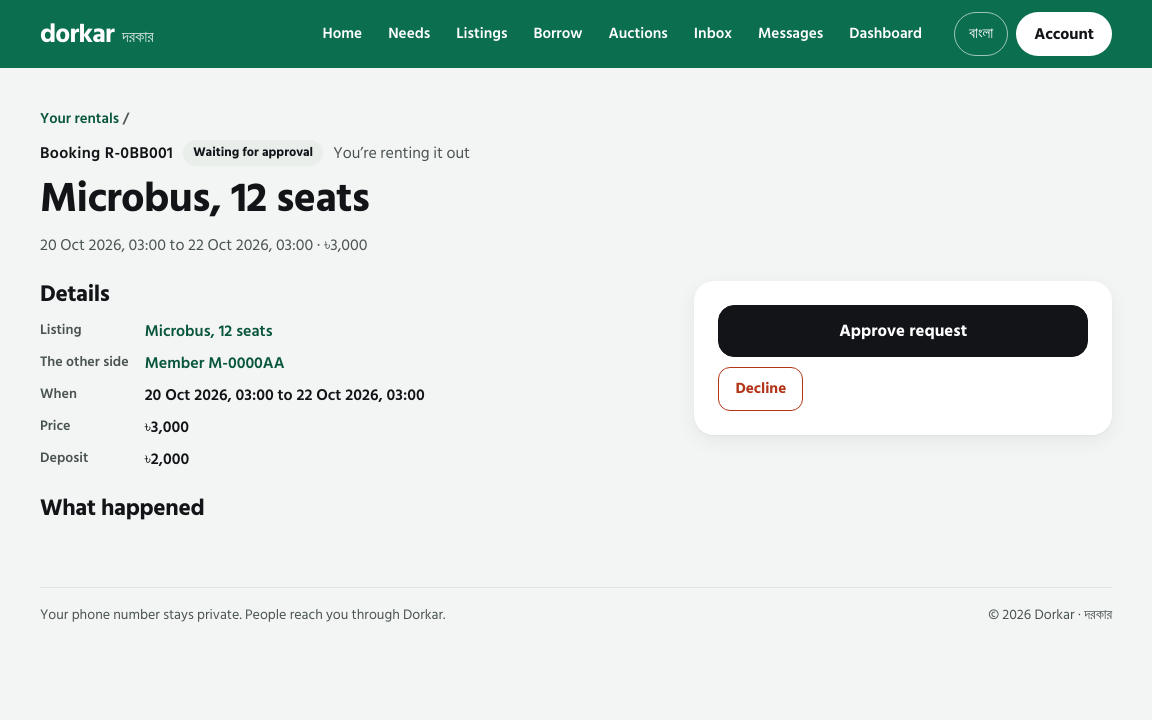
Test: renting › lets the owner approve a request
What coordinates should you click on to do the following:
click the button "Approve request"
I would click on:
 (903, 331)
Its box is [718, 305, 1088, 357].
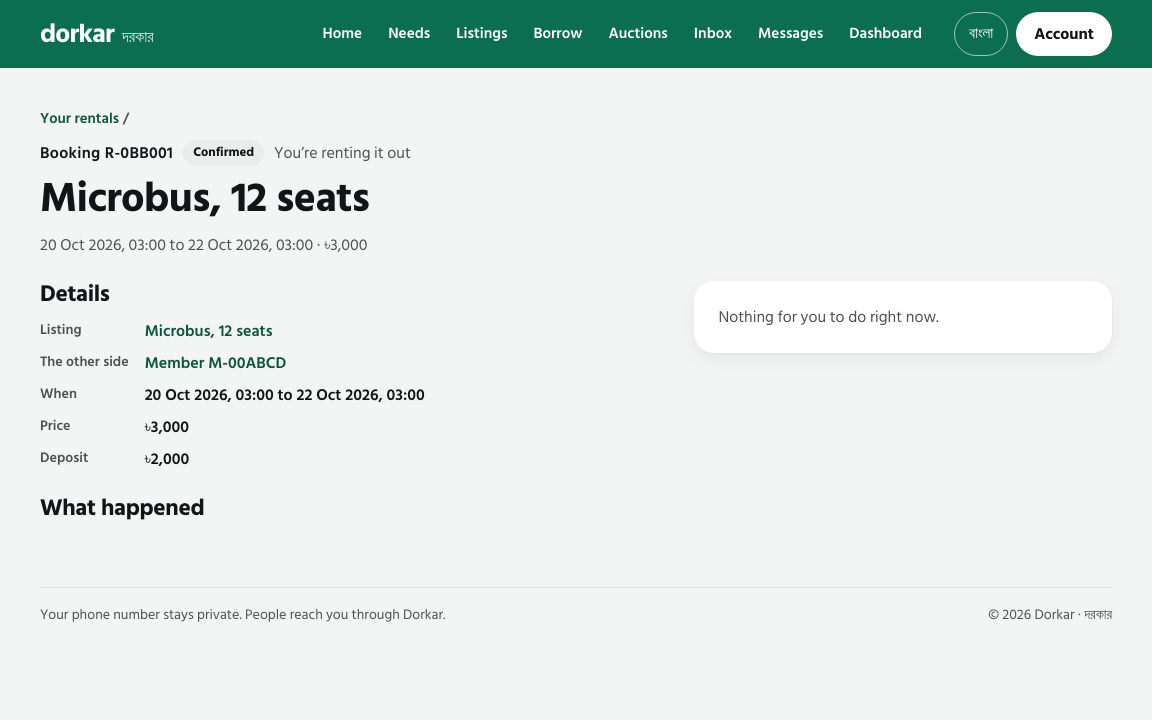
Expected: the text "Confirmed" is shown, [183, 140, 264, 166]
